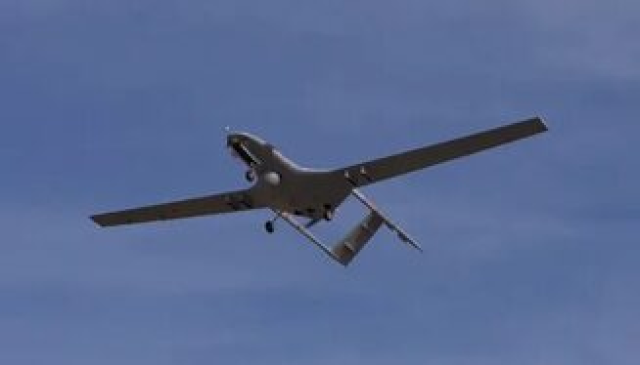military drone: (88, 116, 549, 268)
